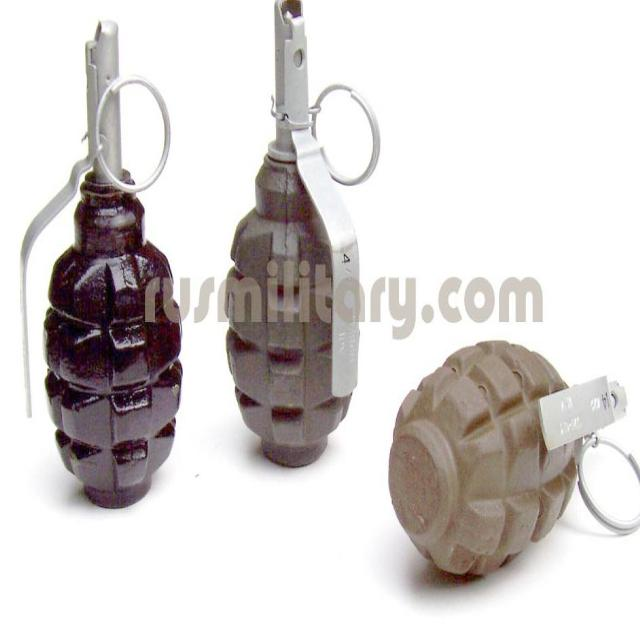grenade: (20, 23, 185, 513), (224, 1, 382, 470), (389, 342, 640, 586)
